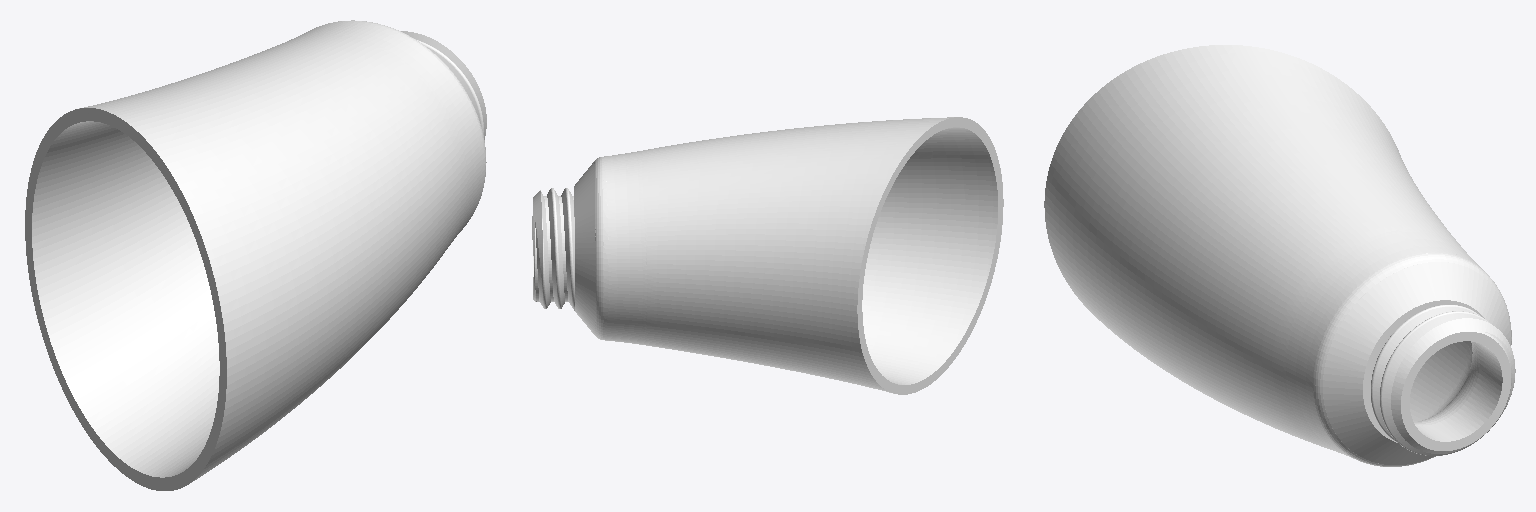
The robot description file, URDF, robot "cube.urdf":
<?xml version="0.0" ?>
<robot name="cube.urdf">
  <link name="baseLink">
    <contact>
      <lateral_friction value="0.3"/>
      <stiffness value="10000.0"/>
    </contact>
    <inertial>
      <origin rpy="0 0 0" xyz="0 0 0"/>
       <mass value="0.1"/>
       <inertia ixx="1" ixy="0" ixz="0" iyy="1" iyz="0" izz="1"/>
    </inertial>
    <visual>
      <origin rpy="0 0 0" xyz="0 0 0"/>
      <geometry>
            <mesh filename="eggplant_right.stl" scale="0.001 0.001 0.001"/>
      </geometry>
       <material name="white">
        <color rgba="1 1 1 1"/>
      </material>
    </visual>
    <collision>
      <origin rpy="0 0 0" xyz="0 0 0"/>
      <geometry>
	 	<mesh filename="eggplant_right.stl" scale="0.001 0.001 0.001"/>
      </geometry>
    </collision>
  </link>  
</robot>

--- What the picture shows (computed from the rendered views, not written in the file) ---
The picture shows the robot from 3 angles, left to right: view 1: azimuth 30°, elevation 25°; view 2: azimuth 150°, elevation 25°; view 3: azimuth 270°, elevation 25°; orthographic projection.
Model cube.urdf with 1 links and 0 joints (none), rooted at baseLink, posed every joint at zero.
Links seen in each view (by area): view 1: baseLink; view 2: baseLink; view 3: baseLink.
Link boxes in pixels (x1=…): baseLink: x1=25, y1=20, x2=486, y2=490; baseLink: x1=532, y1=117, x2=1003, y2=394; baseLink: x1=1044, y1=45, x2=1515, y2=466.
Size in the robot's own frame: 0.0553 by 0.0549 by 0.0412 metres.
Meshes: 1 distinct files referenced, 1 mesh visuals loaded (1 binary STL).